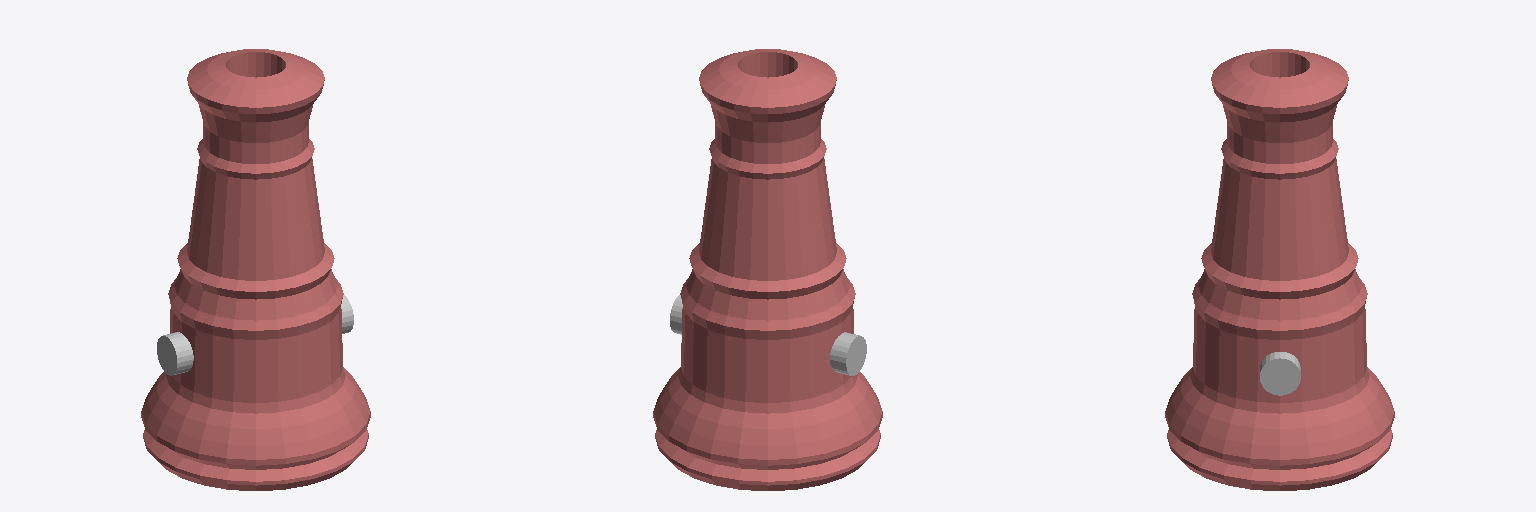
File: cannon.obj
3 views of the same model, side by side, from view 1: azimuth 30°, elevation 25°; view 2: azimuth 150°, elevation 25°; view 3: azimuth 270°, elevation 25° (orthographic).
Parts seen in each view (by area): view 1: SketchUp_ID2.003, SketchUp.001_ID10.001; view 2: SketchUp_ID2.003, SketchUp.001_ID10.001; view 3: SketchUp_ID2.003, SketchUp.001_ID10.001.
Part boxes in pixels (bbox=[...]): SketchUp_ID2.003: bbox=[141, 49, 370, 490]; SketchUp.001_ID10.001: bbox=[157, 295, 353, 375]; SketchUp_ID2.003: bbox=[653, 49, 882, 490]; SketchUp.001_ID10.001: bbox=[670, 295, 866, 375]; SketchUp_ID2.003: bbox=[1165, 49, 1394, 490]; SketchUp.001_ID10.001: bbox=[1260, 352, 1300, 395].
Size of the model in its own units: 0.888 by 1.64 by 0.888.